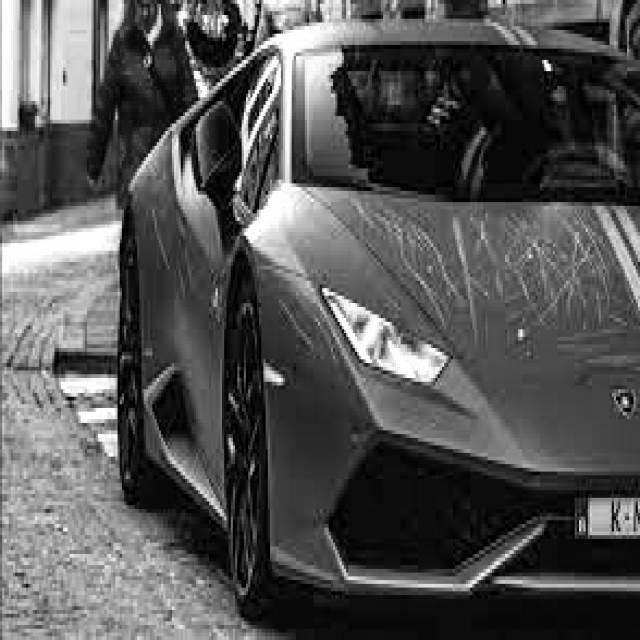bonnet-dent: (285, 172, 637, 452)
